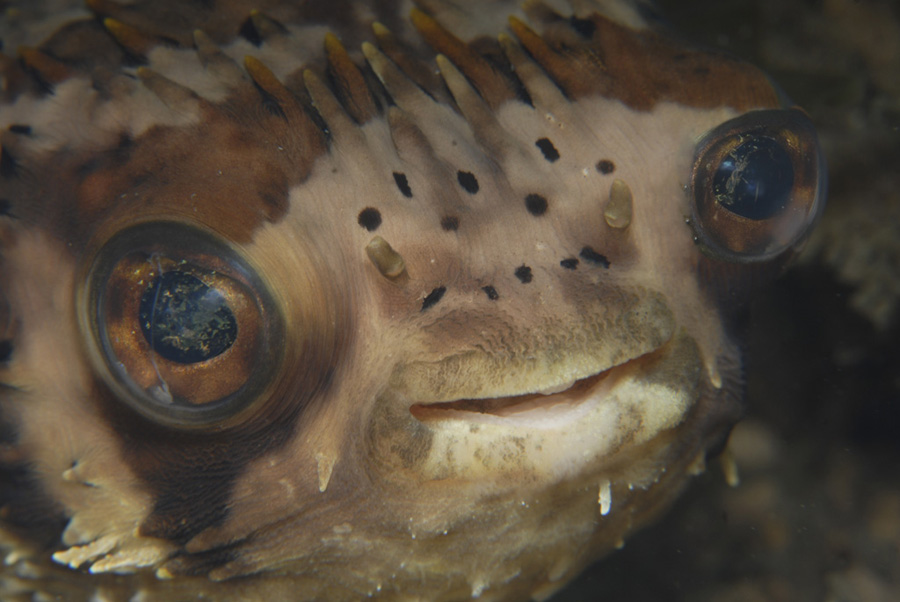Diodon_holocanthus: (1, 3, 875, 598)
